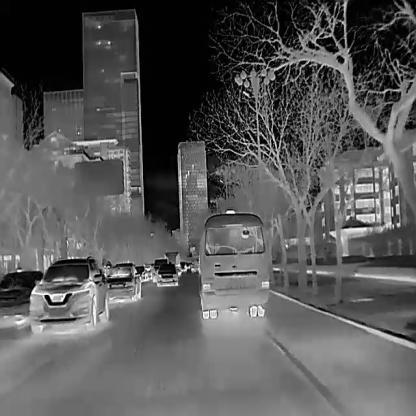car: (195, 207, 271, 318), (27, 254, 109, 335), (0, 270, 41, 326), (104, 262, 141, 300), (155, 263, 177, 286), (163, 249, 178, 274), (152, 258, 167, 280), (135, 265, 148, 281), (144, 264, 151, 279)
